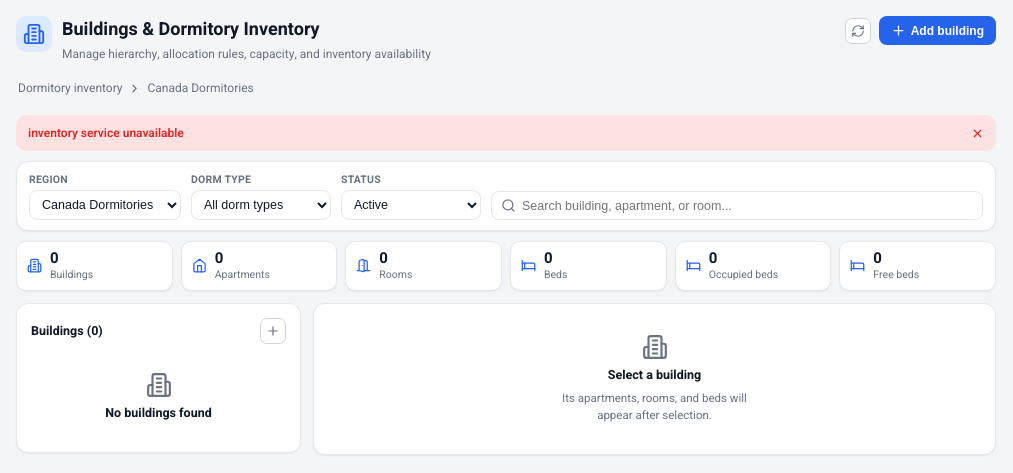
Test: BuildingsPage loading and region scope › shows a dismissible page error when the buildings fail to load
Expected: the text "inventory service unavailable" is shown, [28,124,184,142]
Click the button named "close": (978, 133) [971,126,984,140]
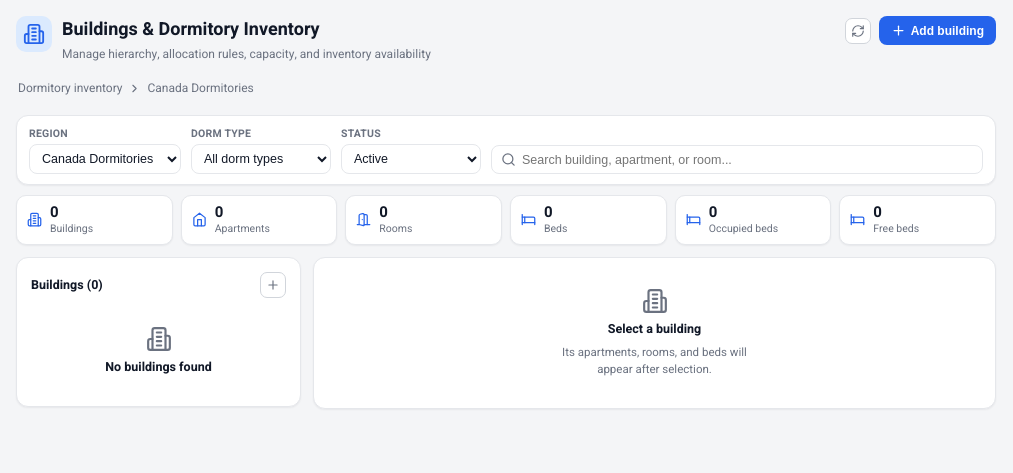
Expected: the text "No buildings found" is shown, [105,358,212,376]
Now the text "inventory service unavailable" is gone
